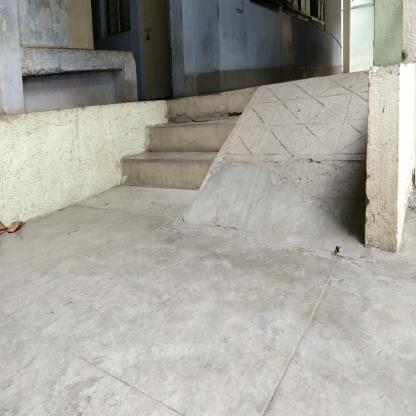stairs: (161, 121, 197, 196)
